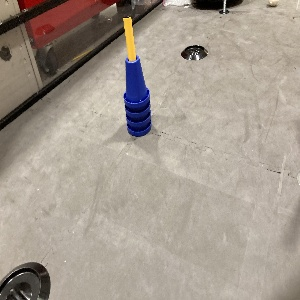Blue_4: (123, 55, 150, 133)
